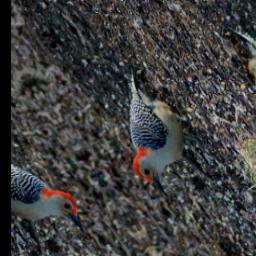Woodpecker: (79, 62, 231, 200)
